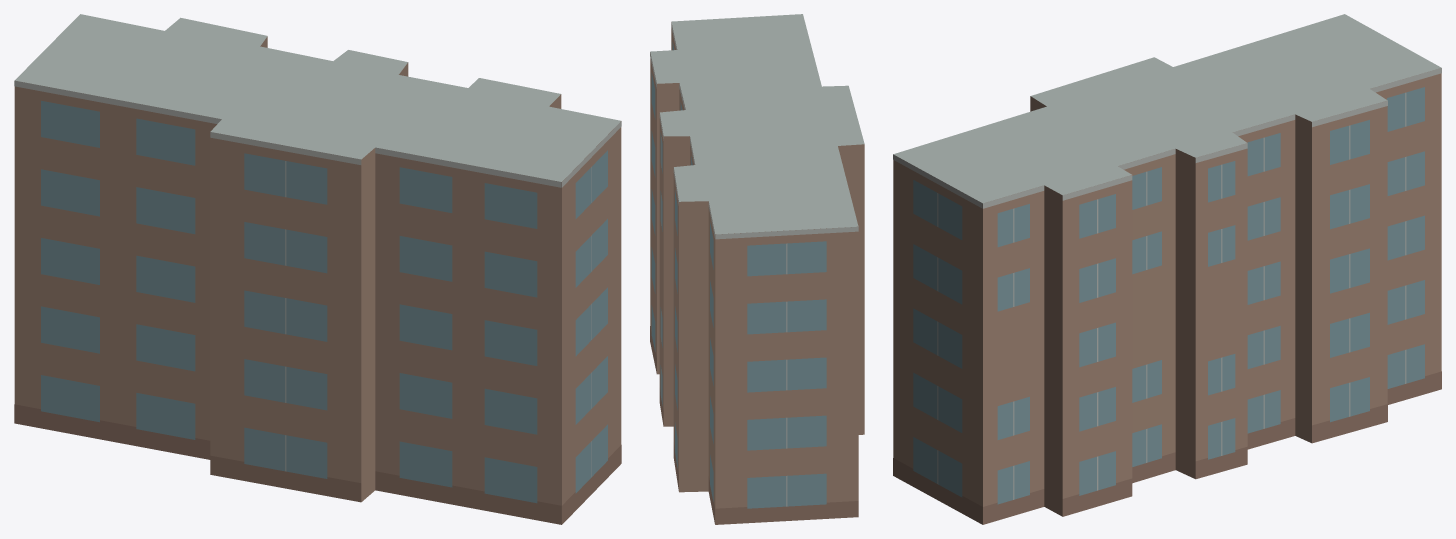
File: survey-upis-33014272.glb
3 renders of one model, left to right at view 1: azimuth 30°, elevation 25°; view 2: azimuth 150°, elevation 25°; view 3: azimuth 270°, elevation 25°, orthographic. The views are drawn at different scales.
Parts seen in each view (by area): view 1: survey-upis-33014272.tmp; view 2: survey-upis-33014272.tmp; view 3: survey-upis-33014272.tmp.
Boxes of the visible parts, box(x1,y1,x2,y2) form: survey-upis-33014272.tmp: box(14, 14, 621, 524); survey-upis-33014272.tmp: box(650, 14, 864, 524); survey-upis-33014272.tmp: box(893, 14, 1441, 524).
Size of the model in its own units: 18.2 by 14.4 by 22.28.
